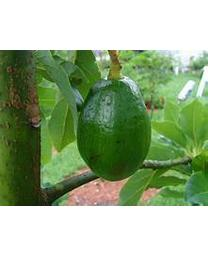avocado: (76, 75, 152, 182)
